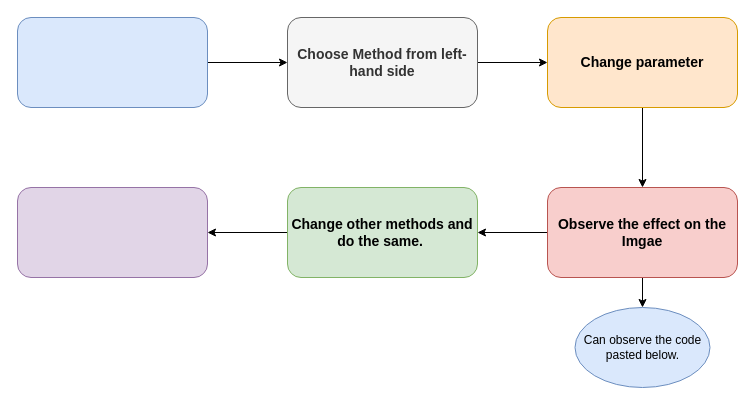
Some shapes in this 755 by 405 pixel diagram are drawn without their labels. Each missing label, with the centre of its shape:
Download the Image if you like your Editing.: (112,232)
Upload a photo: (112,62)
